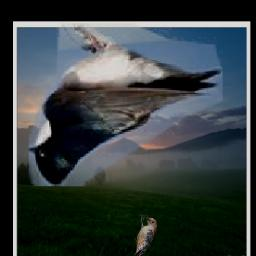Swallow: (30, 23, 224, 186)
Woodpecker: (133, 215, 157, 256)
